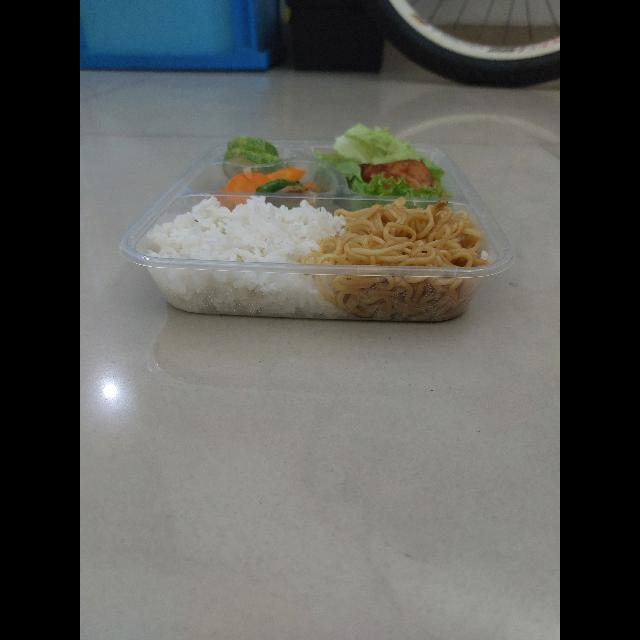bento: (97, 119, 540, 340)
